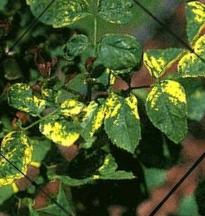Tomato leaf mosaic virus: (135, 76, 205, 148), (93, 87, 164, 157), (89, 21, 149, 82), (0, 74, 53, 129), (37, 0, 95, 44), (87, 0, 141, 36), (57, 28, 96, 67)
